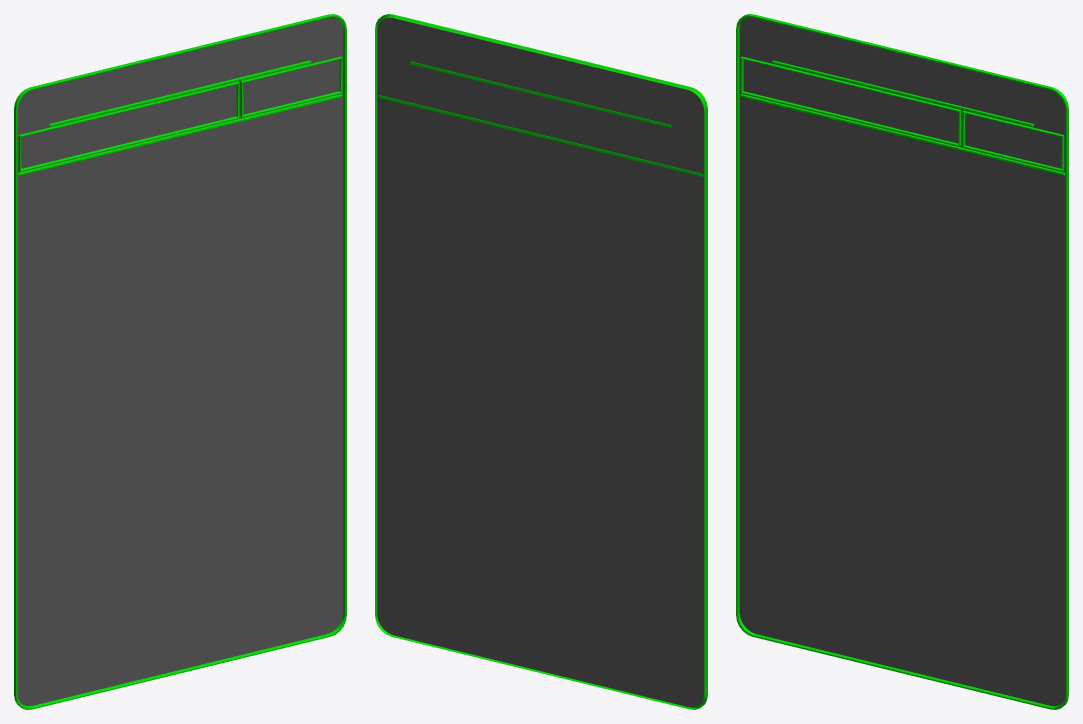
Rendered from LobbyHolderFrame.fbx.
The picture shows the model from 3 angles, left to right: view 1: azimuth 30°, elevation 25°; view 2: azimuth 150°, elevation 25°; view 3: azimuth 330°, elevation 25°; orthographic projection.
Visible parts, largest first — view 1: LobbyHolderUI, PlayercountFrame, LobbyTypeFrame; view 2: LobbyHolderUI; view 3: LobbyHolderUI, PlayercountFrame, LobbyTypeFrame.
Part boxes in pixels (x1,y1,x2,y2): LobbyHolderUI: (14,14,346,709); PlayercountFrame: (18,81,239,171); LobbyTypeFrame: (240,56,342,117); LobbyHolderUI: (375,14,707,709); LobbyHolderUI: (736,14,1068,709); PlayercountFrame: (740,56,961,146); LobbyTypeFrame: (962,110,1064,171).
Size of the model in its own units: 0.7766 by 1.39 by 0.00861.
